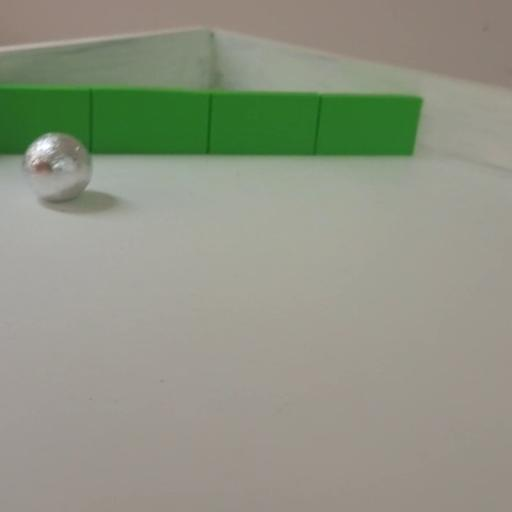alive: (22, 132, 92, 202)
